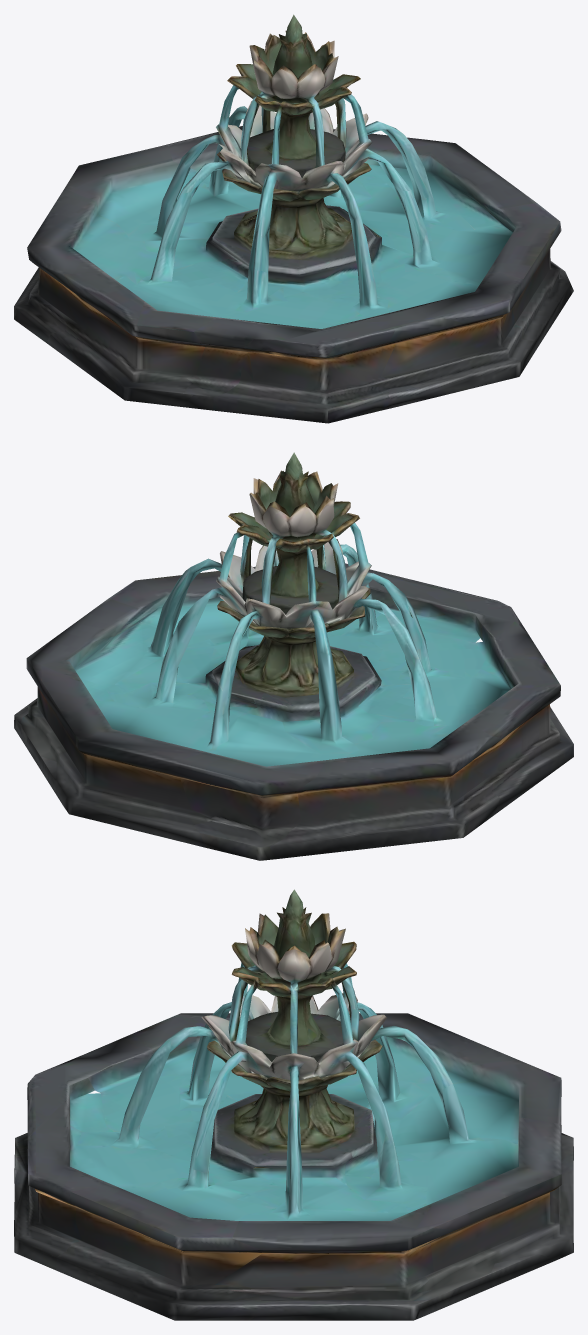
Rendered from au_env_fountain_lotus.glb.
3 views of the same model, one above another, from view 1: azimuth 30°, elevation 25°; view 2: azimuth 150°, elevation 25°; view 3: azimuth 270°, elevation 25° (orthographic). The views are drawn at different scales.
Visible parts, largest first — view 1: tripo_node_b307bb15-afea-483d-9f0b-b1b763e375b1; view 2: tripo_node_b307bb15-afea-483d-9f0b-b1b763e375b1; view 3: tripo_node_b307bb15-afea-483d-9f0b-b1b763e375b1.
Boxes of the visible parts, x1=… form: tripo_node_b307bb15-afea-483d-9f0b-b1b763e375b1: x1=14, y1=14, x2=573, y2=423; tripo_node_b307bb15-afea-483d-9f0b-b1b763e375b1: x1=14, y1=452, x2=573, y2=860; tripo_node_b307bb15-afea-483d-9f0b-b1b763e375b1: x1=14, y1=889, x2=573, y2=1320.
Size of the model in its own units: 0.9769 by 0.6044 by 0.9779.
Materials: 1 (1 with a texture image).
